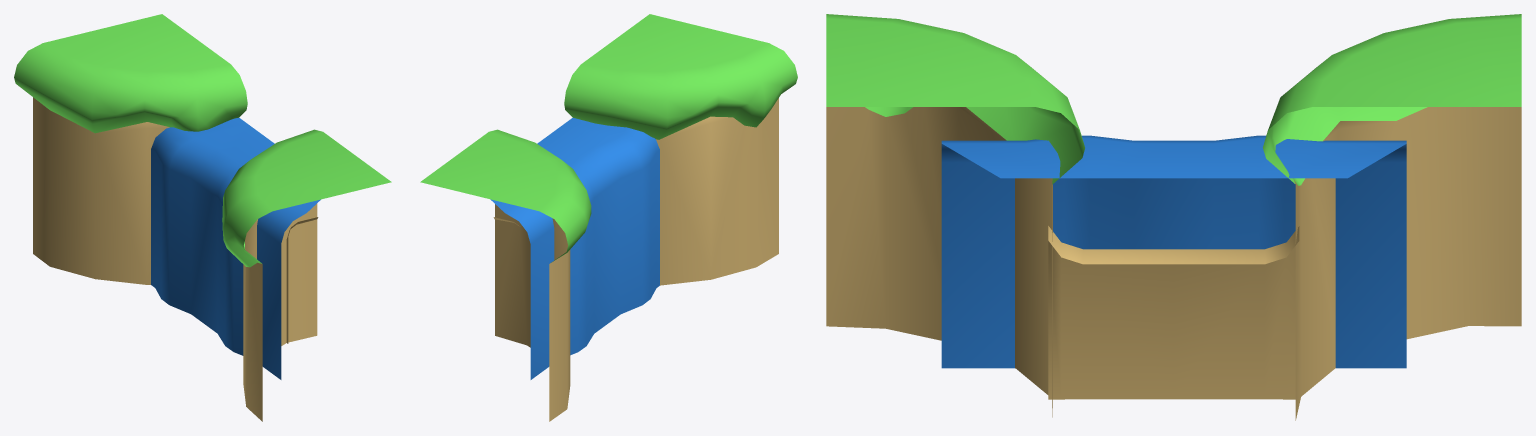
The model's file is RiverWaterFall_Object_Mesh.fbx.
3 views of the same model, side by side, from view 1: azimuth 30°, elevation 25°; view 2: azimuth 150°, elevation 25°; view 3: azimuth 270°, elevation 25° (orthographic). The views are drawn at different scales.
Visible parts, largest first — view 1: RiverWaterFall_Object; view 2: RiverWaterFall_Object; view 3: RiverWaterFall_Object.
Part boxes in pixels (x1,y1,x2,y2): RiverWaterFall_Object: [14, 14, 391, 421]; RiverWaterFall_Object: [420, 14, 797, 421]; RiverWaterFall_Object: [826, 14, 1521, 420].
Bounding box in the file's own units: 1.49 × 4 × 2.
